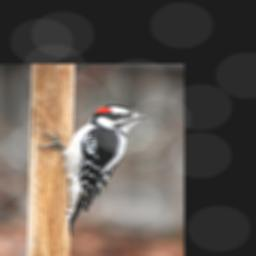Woodpecker: (38, 104, 149, 236)
